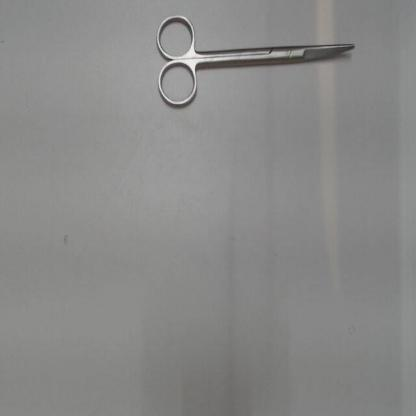Curved Mayo Scissors: (152, 11, 362, 116)
